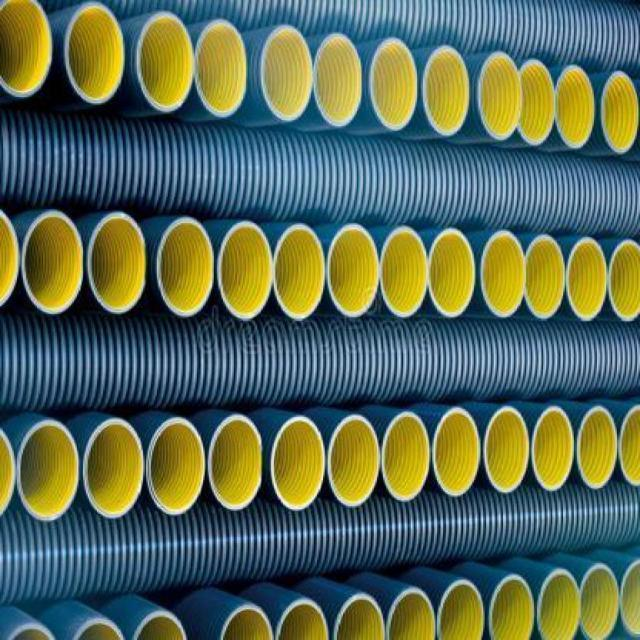pipe: (22, 210, 85, 315), (16, 421, 81, 520), (64, 1, 125, 105), (85, 419, 145, 519), (146, 418, 205, 515), (90, 212, 147, 312), (157, 218, 214, 317), (139, 13, 193, 112), (270, 416, 326, 511), (219, 223, 273, 320), (209, 414, 263, 511), (0, 0, 53, 98), (273, 224, 326, 320), (195, 22, 248, 118), (328, 415, 381, 506), (328, 225, 379, 318), (263, 27, 314, 120), (380, 226, 428, 317), (382, 411, 430, 501), (432, 407, 480, 496), (429, 227, 476, 317), (484, 405, 531, 493), (315, 36, 362, 124), (373, 40, 418, 130), (482, 231, 527, 318), (425, 47, 470, 134), (532, 407, 575, 492), (576, 407, 618, 490), (480, 53, 522, 136), (526, 234, 566, 319), (568, 238, 608, 321), (578, 562, 620, 639), (536, 568, 581, 639), (556, 67, 595, 146), (519, 61, 555, 143), (491, 574, 536, 639), (437, 580, 485, 639), (603, 74, 639, 151), (607, 239, 640, 320), (387, 589, 437, 640), (334, 593, 385, 640), (275, 600, 329, 639), (0, 201, 18, 313), (219, 606, 275, 640), (0, 429, 20, 524), (618, 403, 640, 486), (131, 611, 192, 640), (620, 558, 639, 639), (74, 617, 124, 640), (6, 621, 60, 640)
